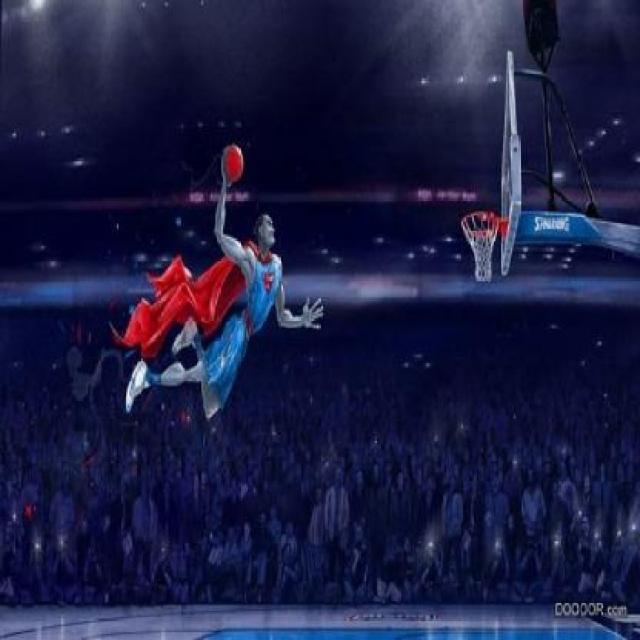rim: (460, 210, 498, 282)
